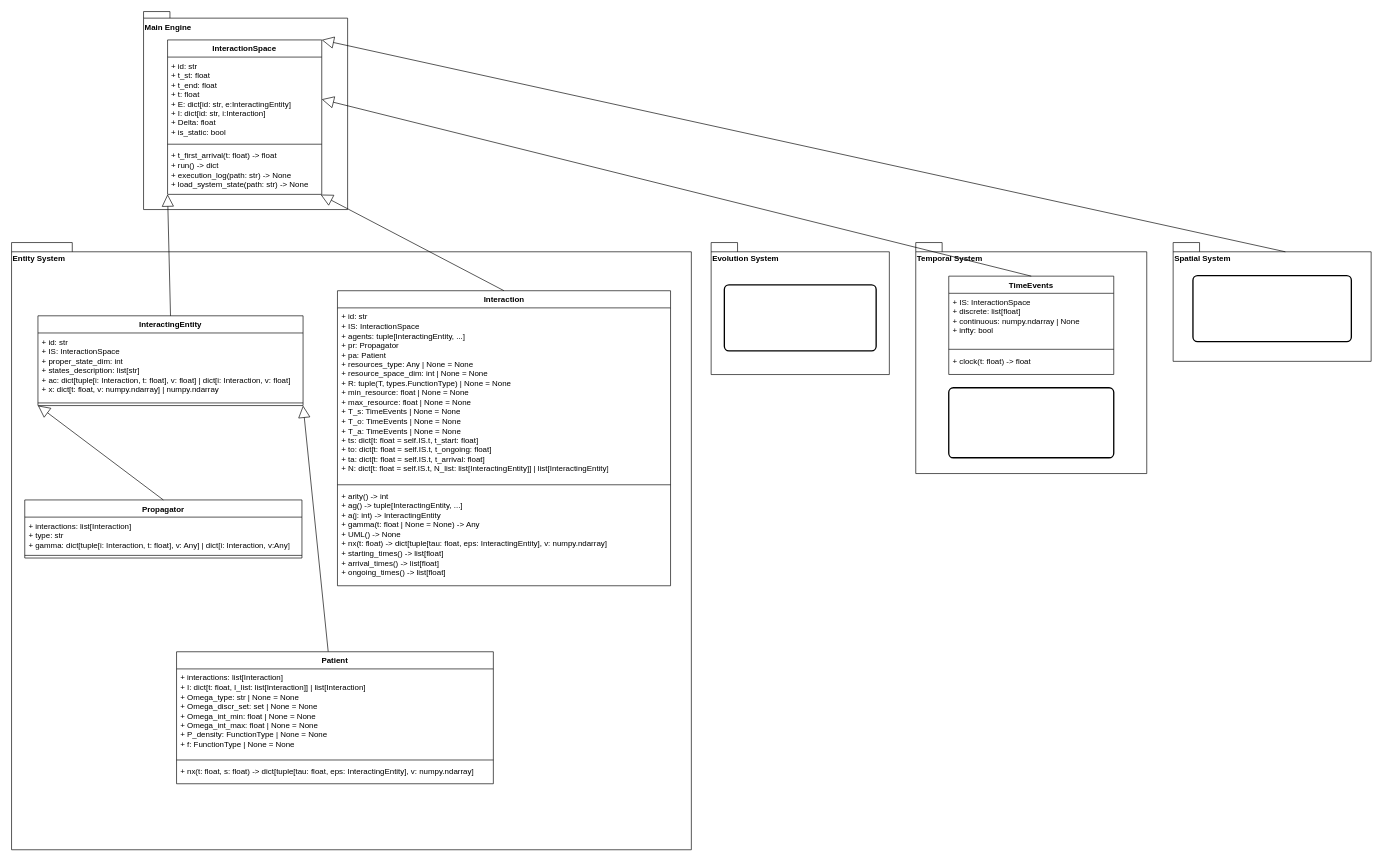
Image size: 1383x861. Some labels were removed from this diagram. Each missing label, with the centre of its shape:
"Implementation of evolution equation" goes at pixel 799 317.
"Neighborhoods' time evolution" goes at pixel 1272 308.
"Stochastic generation of T^s, T^a, T^o" goes at pixel 1031 422.
